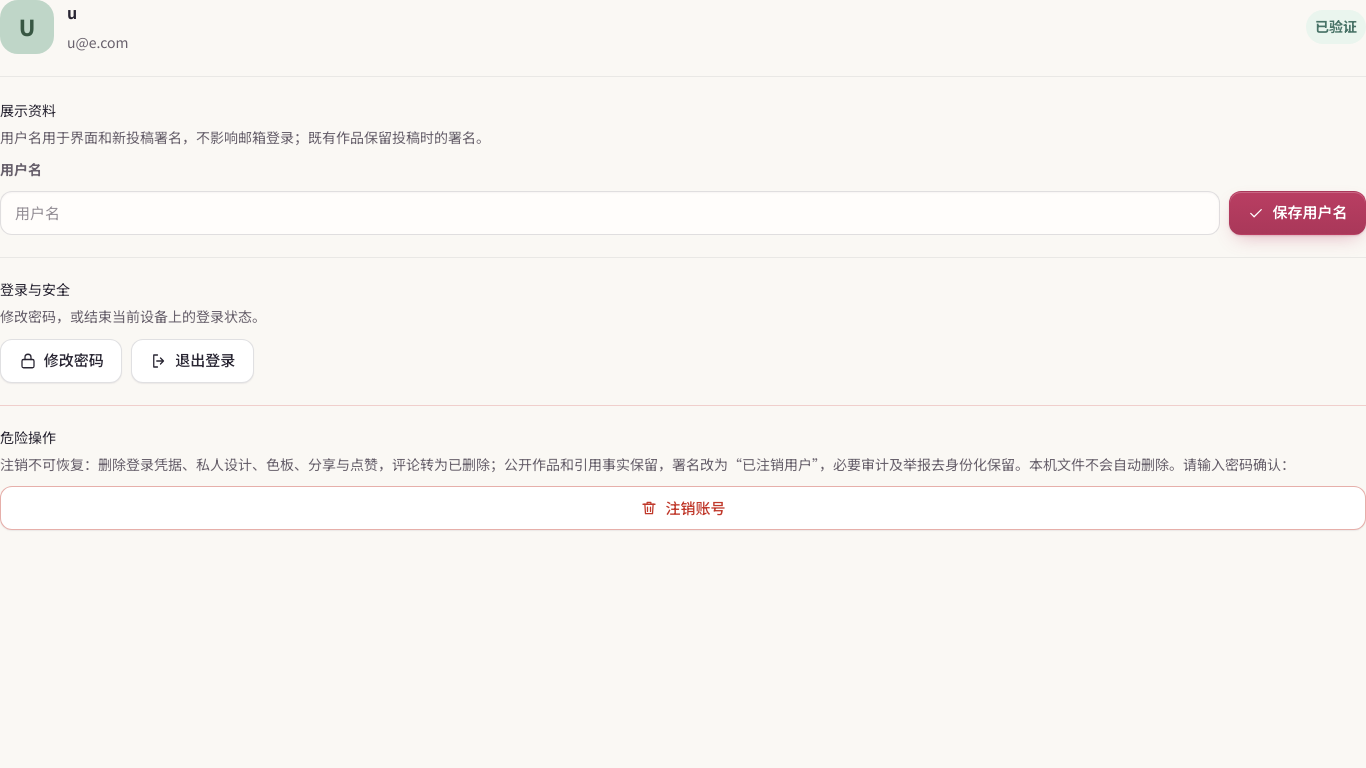
AccountMenu › 修改密码：两次新密码不一致在客户端拦截
The image size is (1366, 768).
Click the button "修改密码": point(61, 361) [0, 339, 122, 383]
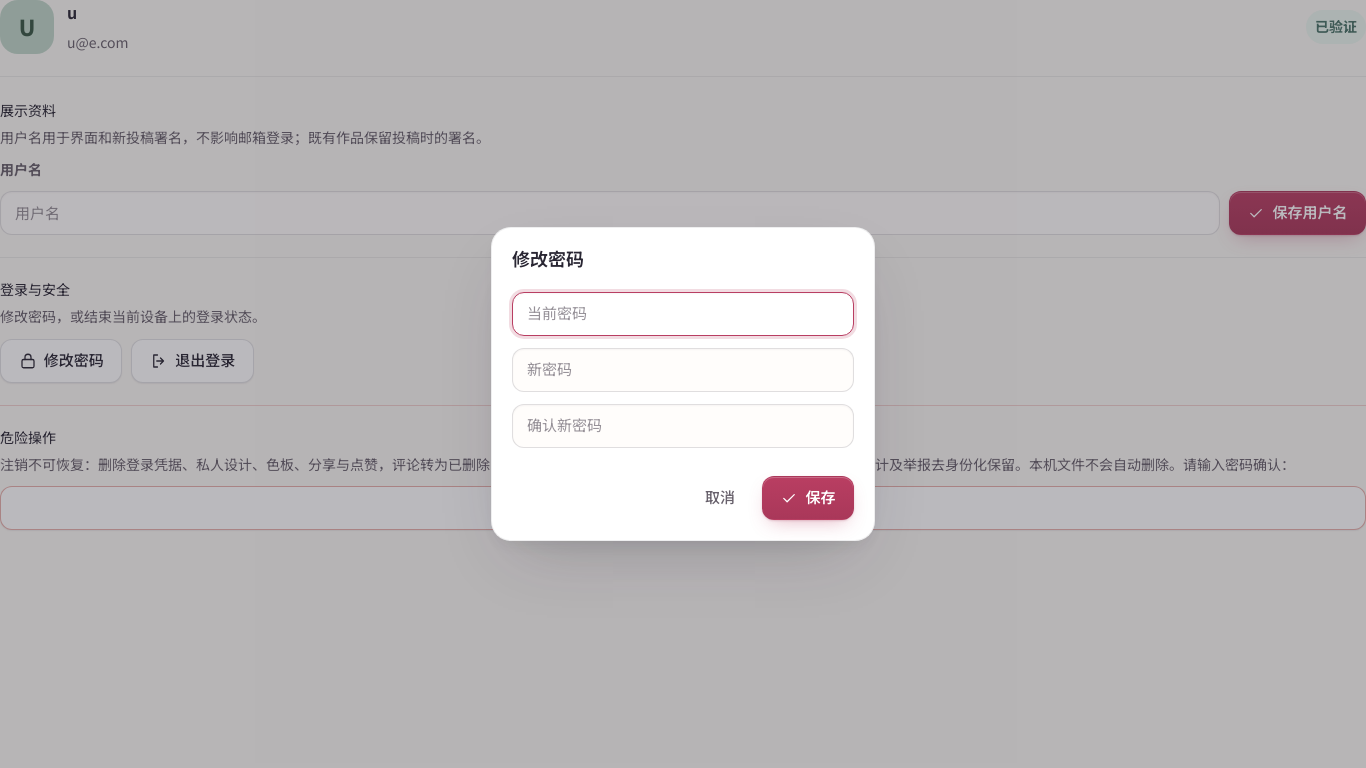
In the password field labelled "当前密码": point(683, 314) [512, 292, 854, 336], type "正确密码"
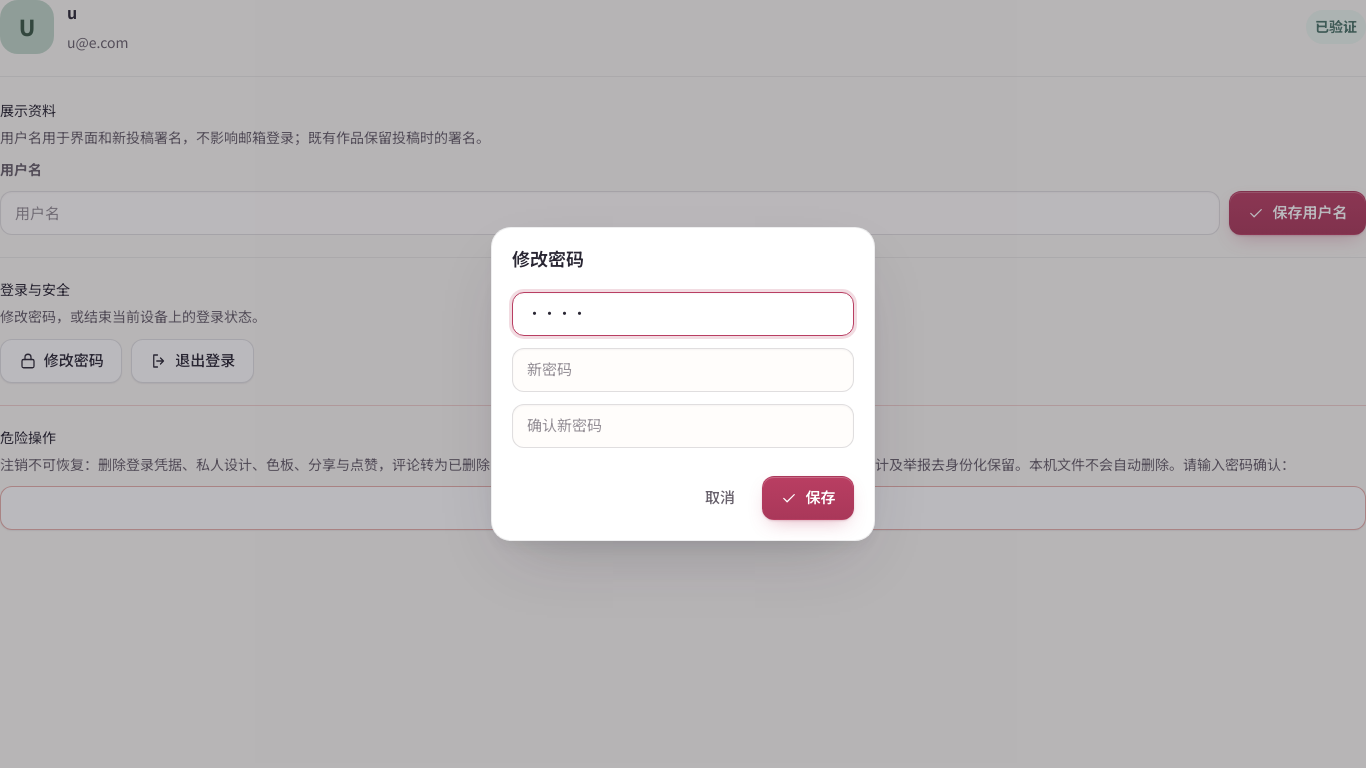
In the password field labelled "新密码": point(683, 370) [512, 348, 854, 392], type "newpassword1"
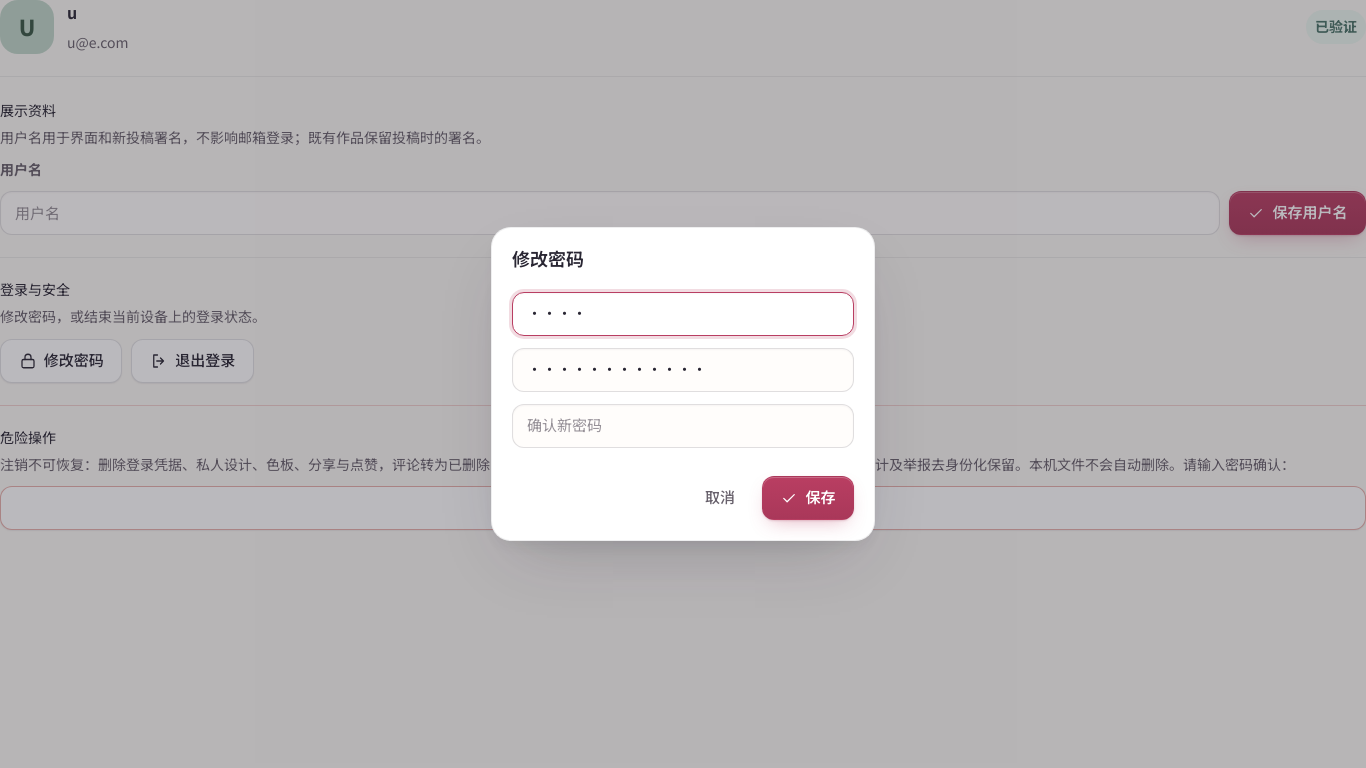
In the password field labelled "确认新密码": point(683, 426) [512, 404, 854, 448], type "newpassword2"
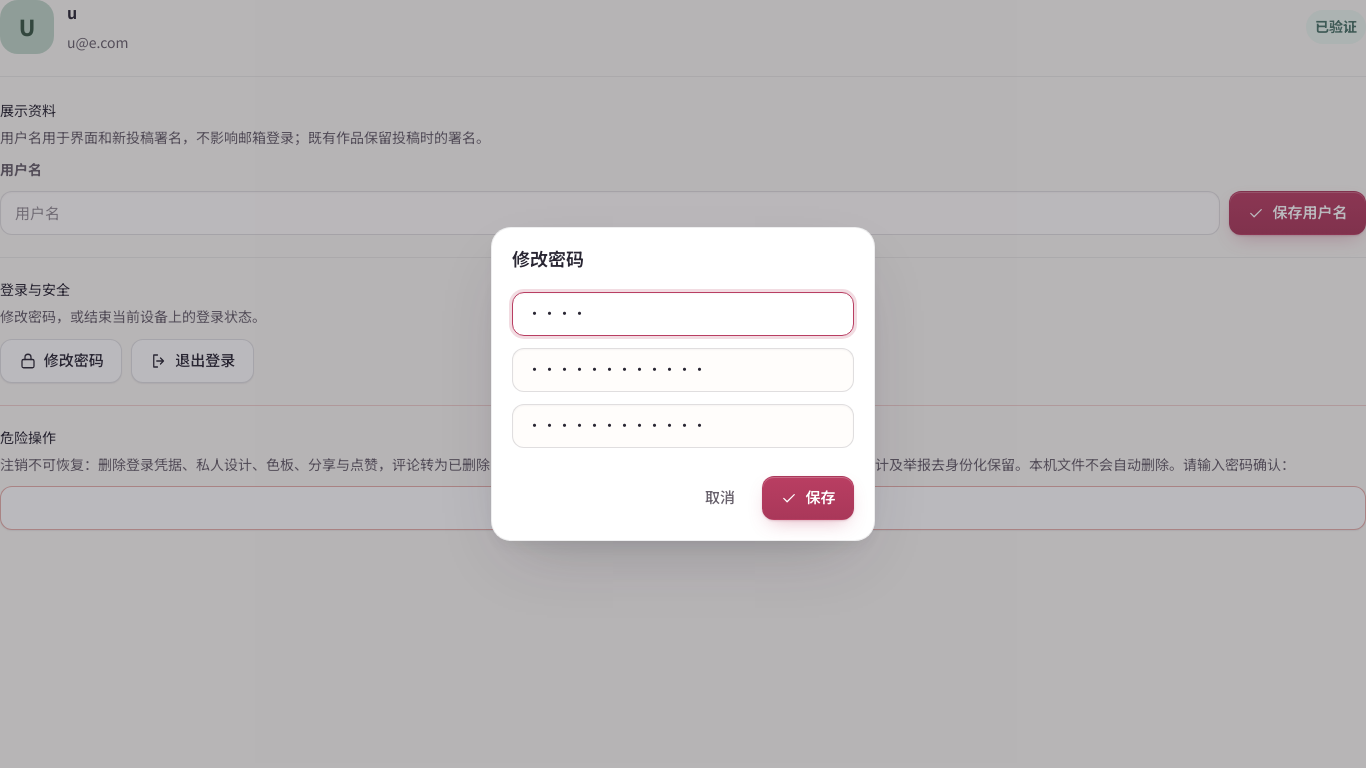
Click the button "保存": point(808, 498) [762, 476, 854, 520]
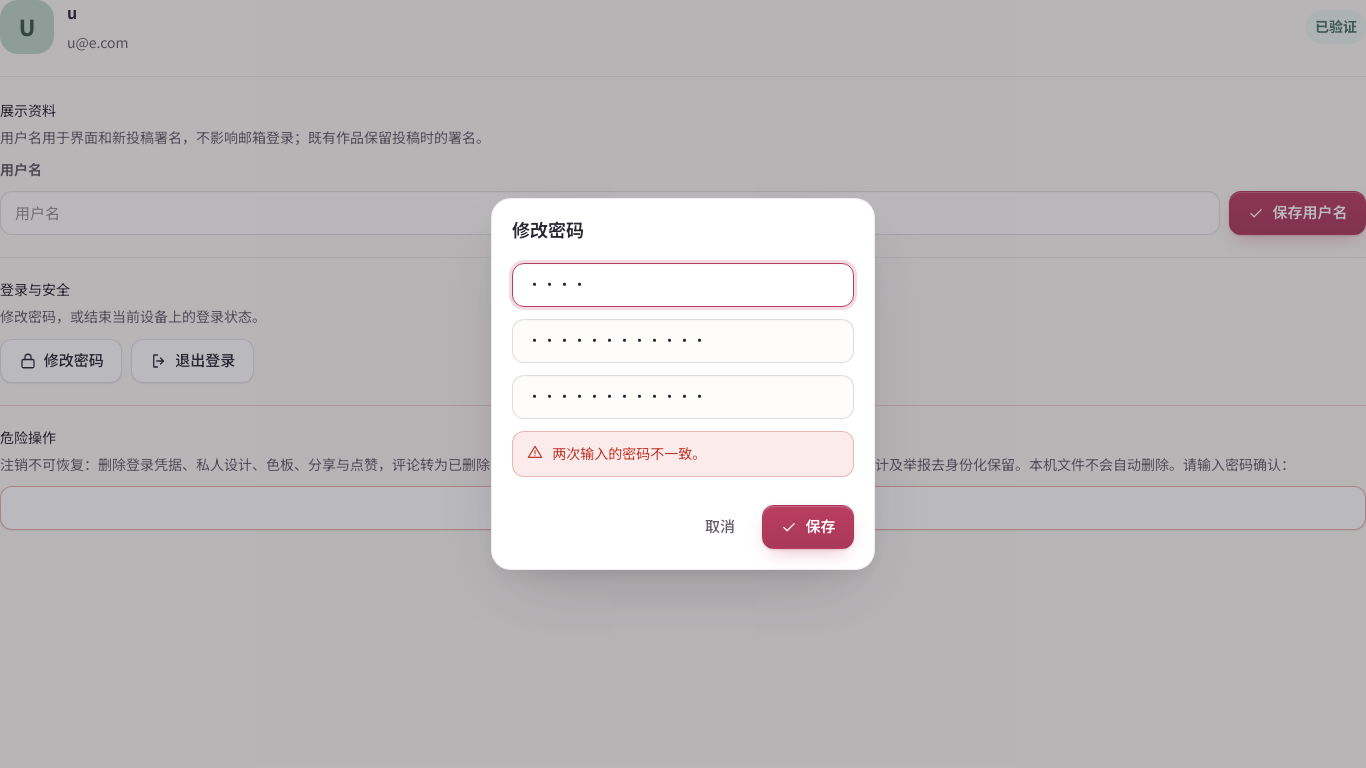
Expected: the text "两次输入的密码不一致。" is shown, [512, 431, 854, 477]
